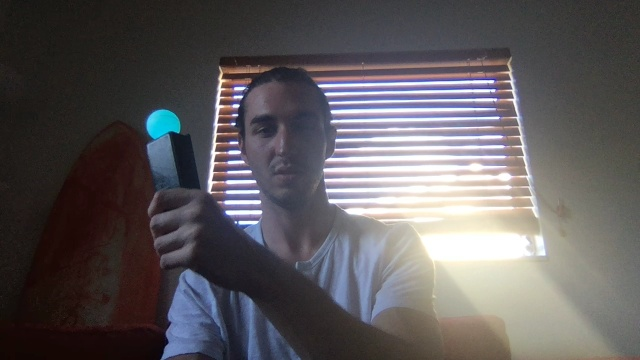wand: (147, 108, 181, 140)
